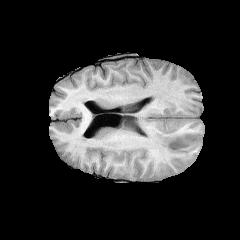glioma: (144, 78, 199, 164)
